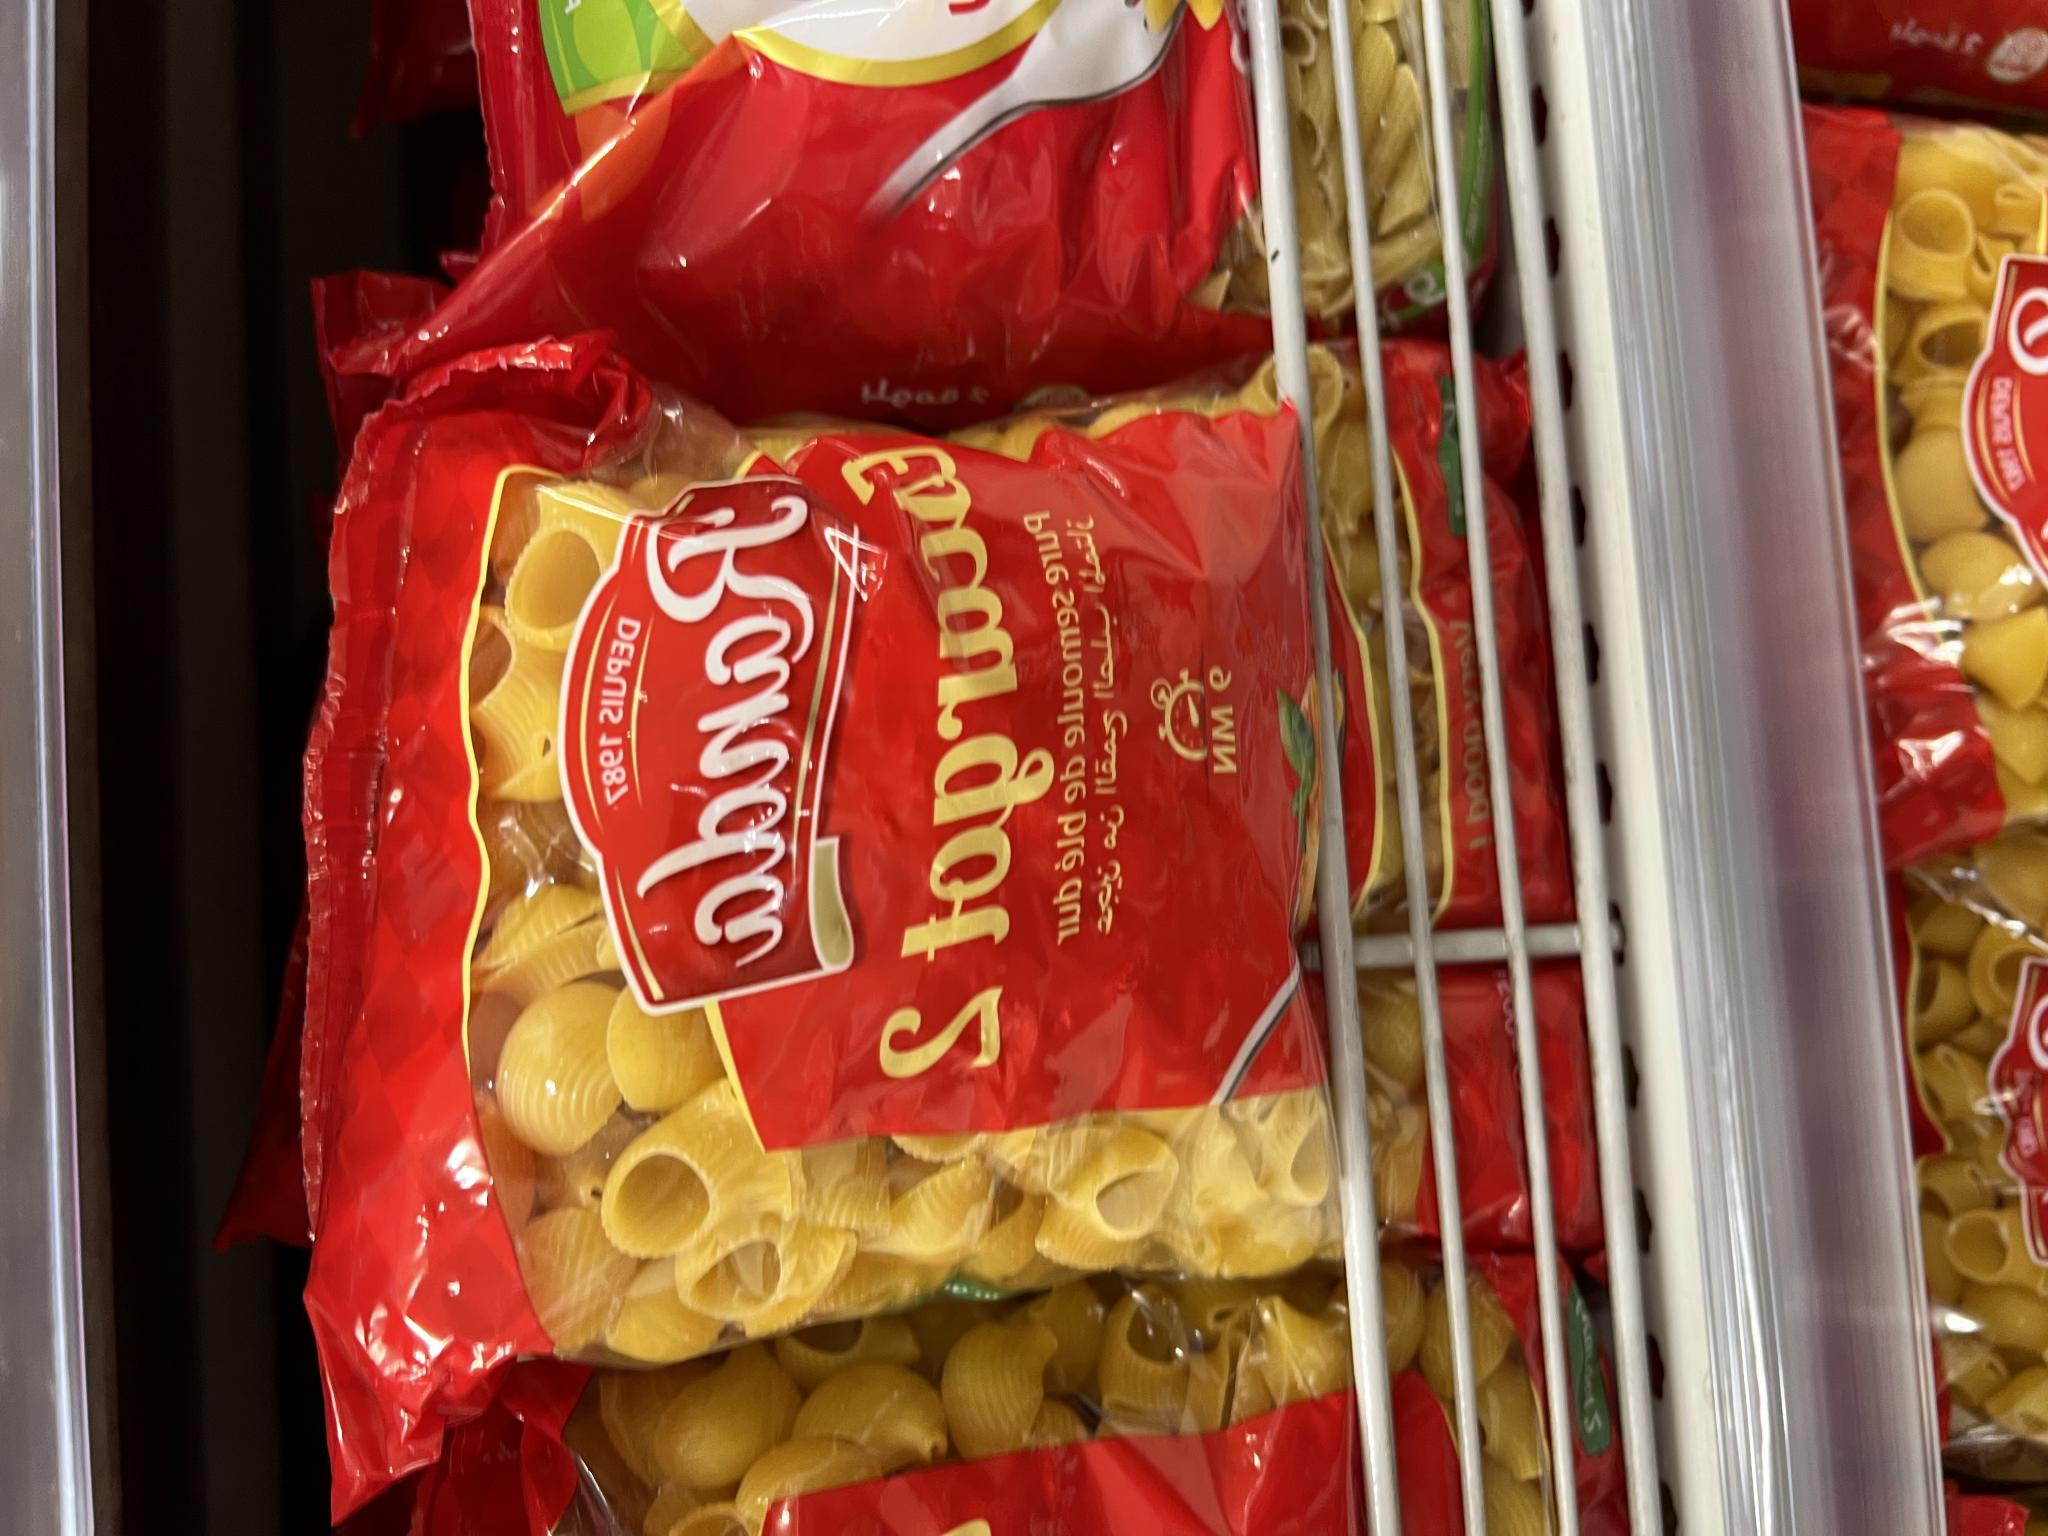Escargot: (352, 368, 1616, 1418)
